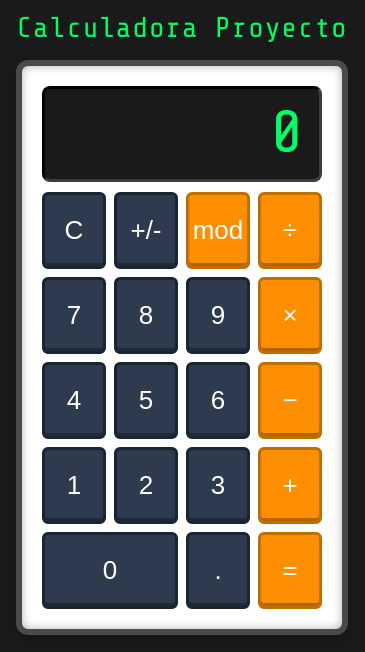
Calculator Additional Functional Tests (Selectors Fixed) › should perform multiplication and show 7 × 8 = 56
Click the button "7": (74, 315) [42,276,106,354]
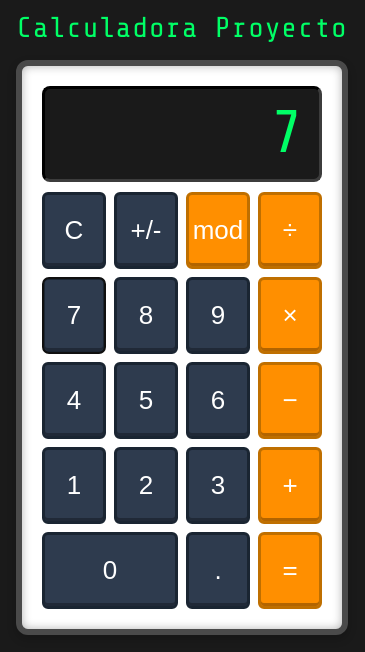
Click the button "×": (290, 315) [258,276,322,354]
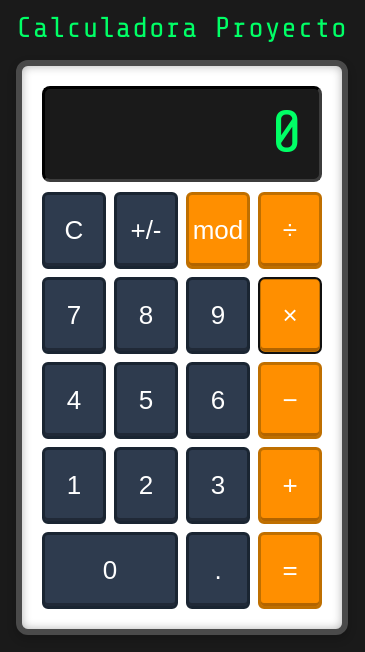
Click the button "8": (146, 315) [114,276,178,354]
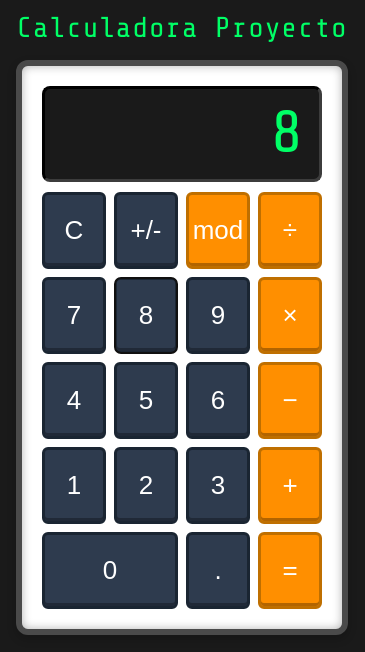
Click the button "=": (290, 570) [258,532,322,608]
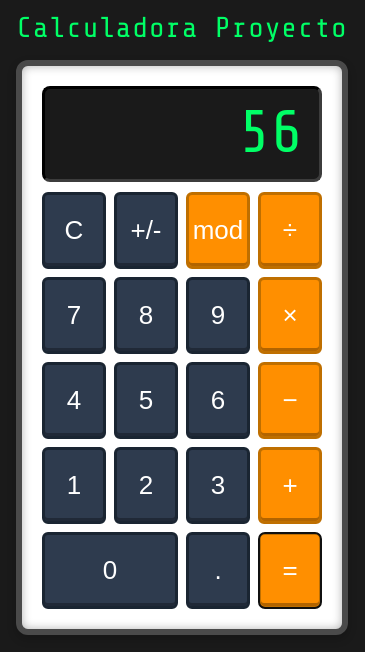
Expected: the text with test id "display" reads "56", [238,98,303,166]
